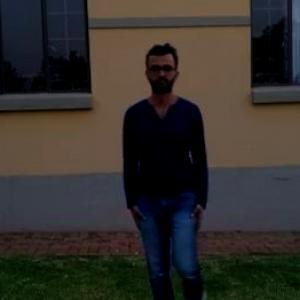follow: (120, 46, 206, 299)
